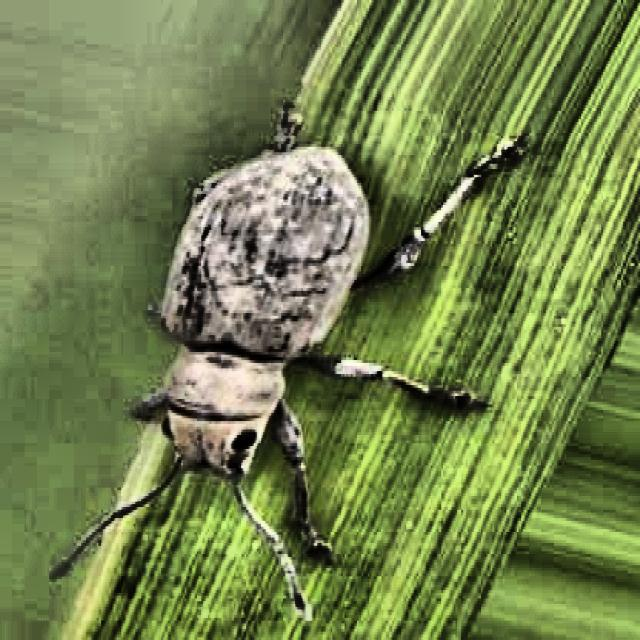Stink bug: (106, 73, 410, 591)
